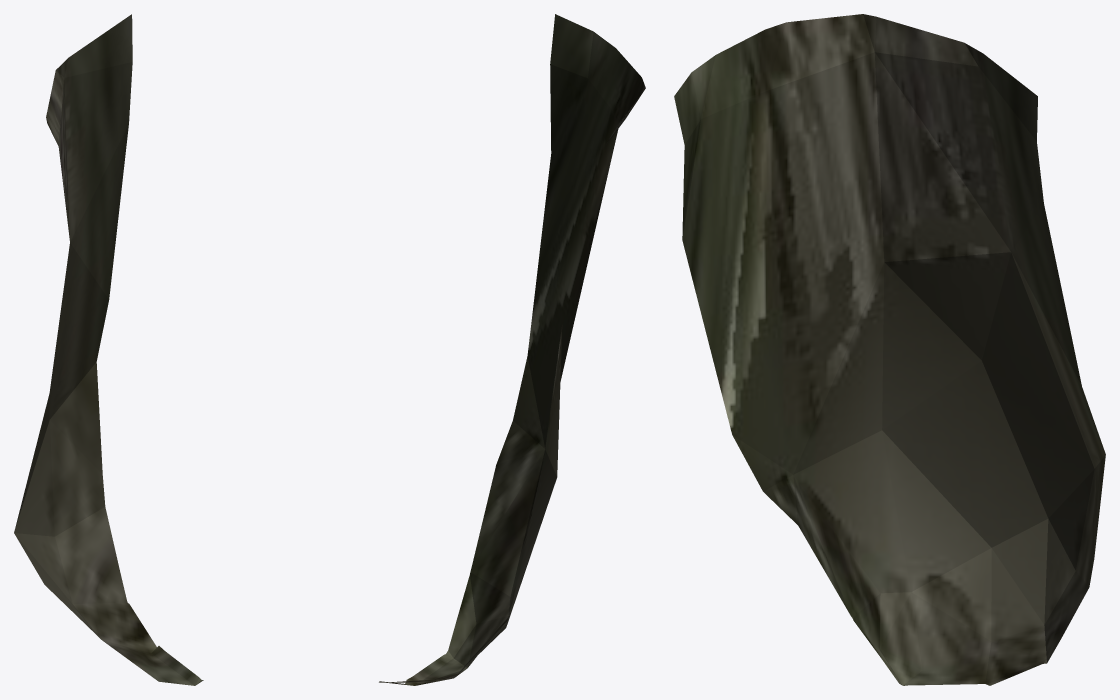
3 views of the same model, side by side, from view 1: azimuth 30°, elevation 25°; view 2: azimuth 150°, elevation 25°; view 3: azimuth 270°, elevation 25° (orthographic). The views are drawn at different scales.
Size of the model in its own units: 0.5474 by 1.84 by 1.21.
1 material, 1 textured.
